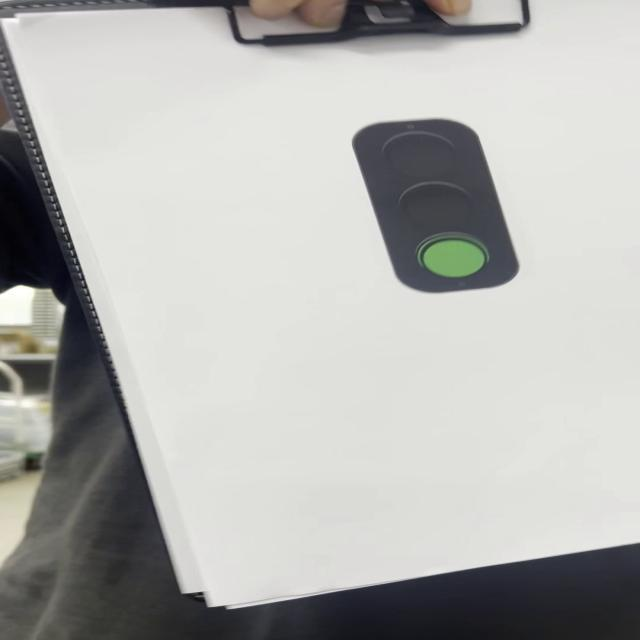green: (351, 119, 521, 298)
